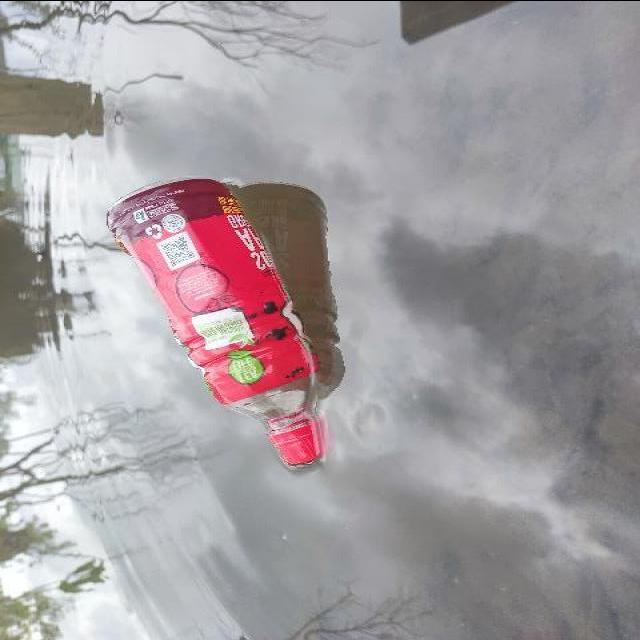Bottle: (97, 169, 338, 478)
